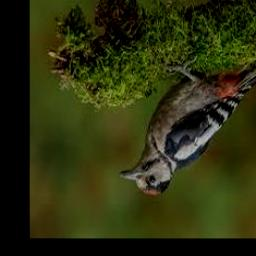Woodpecker: (120, 59, 256, 196)
